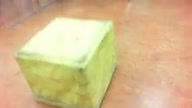cube: (14, 17, 116, 107)
